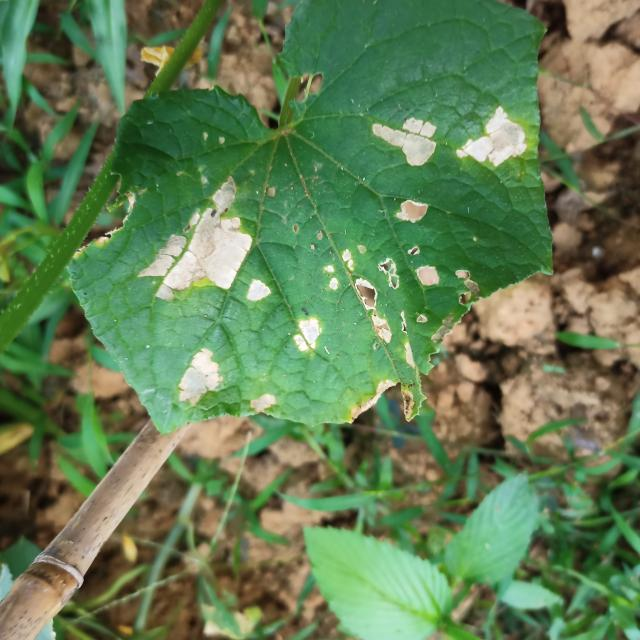disease_cucumber: (147, 170, 322, 420), (324, 200, 464, 351), (358, 94, 532, 200)
